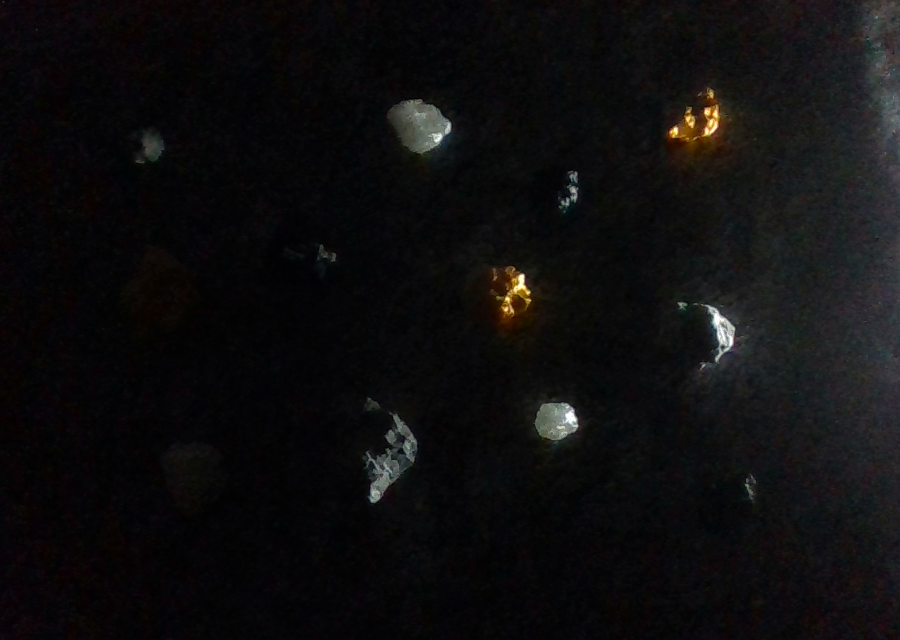anorthosite: (158, 441, 230, 516), (388, 99, 451, 154), (535, 403, 578, 440)
basalt: (259, 211, 336, 292), (694, 471, 757, 532), (525, 161, 579, 215)
metal: (121, 245, 200, 328), (460, 264, 531, 326), (661, 87, 719, 142)
regolith: (330, 398, 417, 504), (654, 302, 734, 368), (121, 127, 165, 164)
